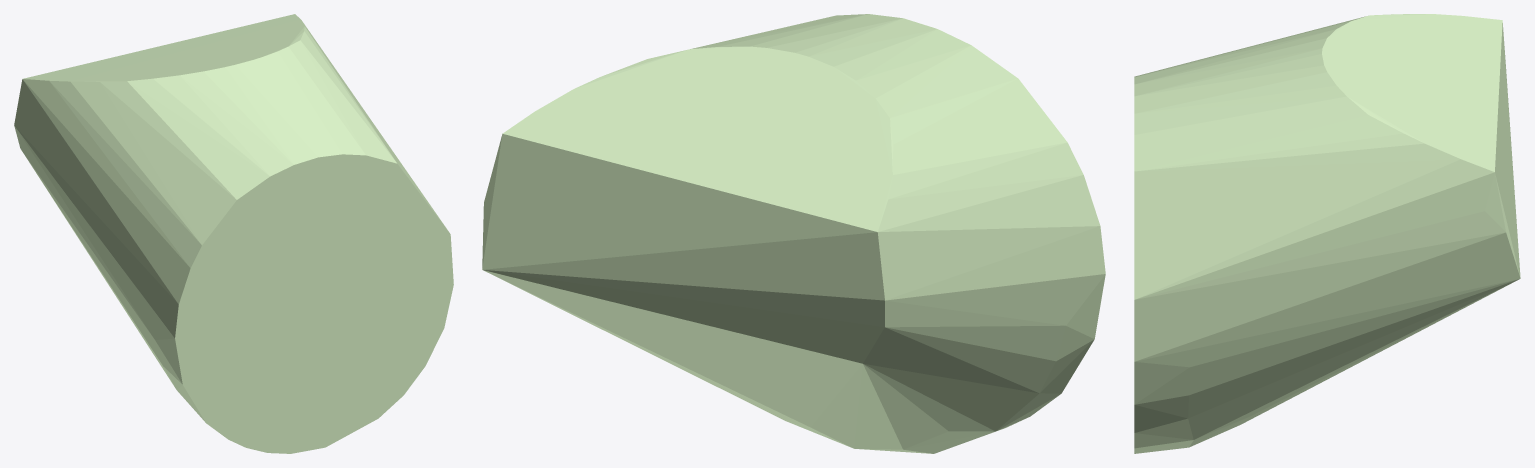
The model's file is kuka_URDF_link3_resp_coll_2.dae.
3 renders of one model, left to right at view 1: azimuth 30°, elevation 25°; view 2: azimuth 150°, elevation 25°; view 3: azimuth 270°, elevation 25°, orthographic. The views are drawn at different scales.
Visible parts, largest first — view 1: Node_0000020FCC592AD0; view 2: Node_0000020FCC592AD0; view 3: Node_0000020FCC592AD0.
Boxes of the visible parts, x1=… form: Node_0000020FCC592AD0: x1=14, y1=14, x2=453, y2=453; Node_0000020FCC592AD0: x1=482, y1=14, x2=1105, y2=453; Node_0000020FCC592AD0: x1=1134, y1=14, x2=1520, y2=453.
Size of the model in its own units: 0.1387 by 0.1523 by 0.1392.
